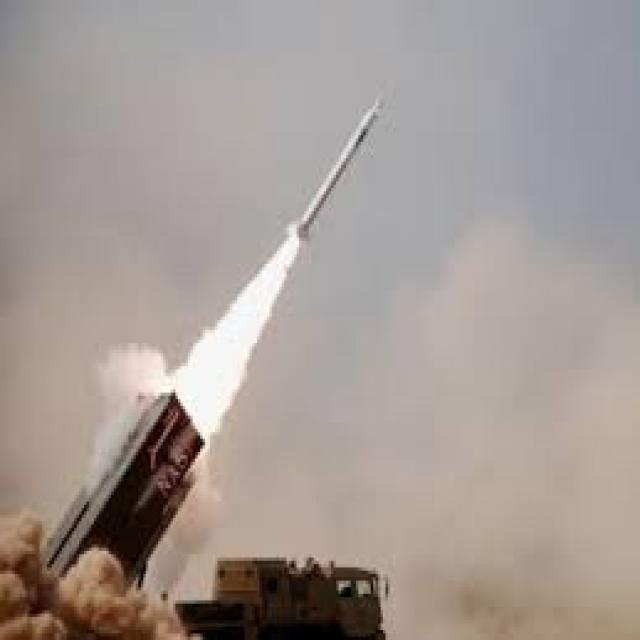missile: (282, 103, 380, 254)
